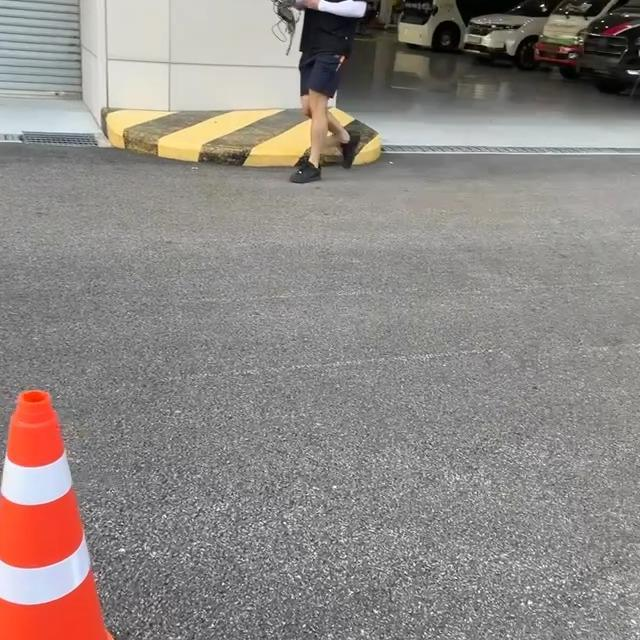fallen_object: (0, 347, 181, 639)
